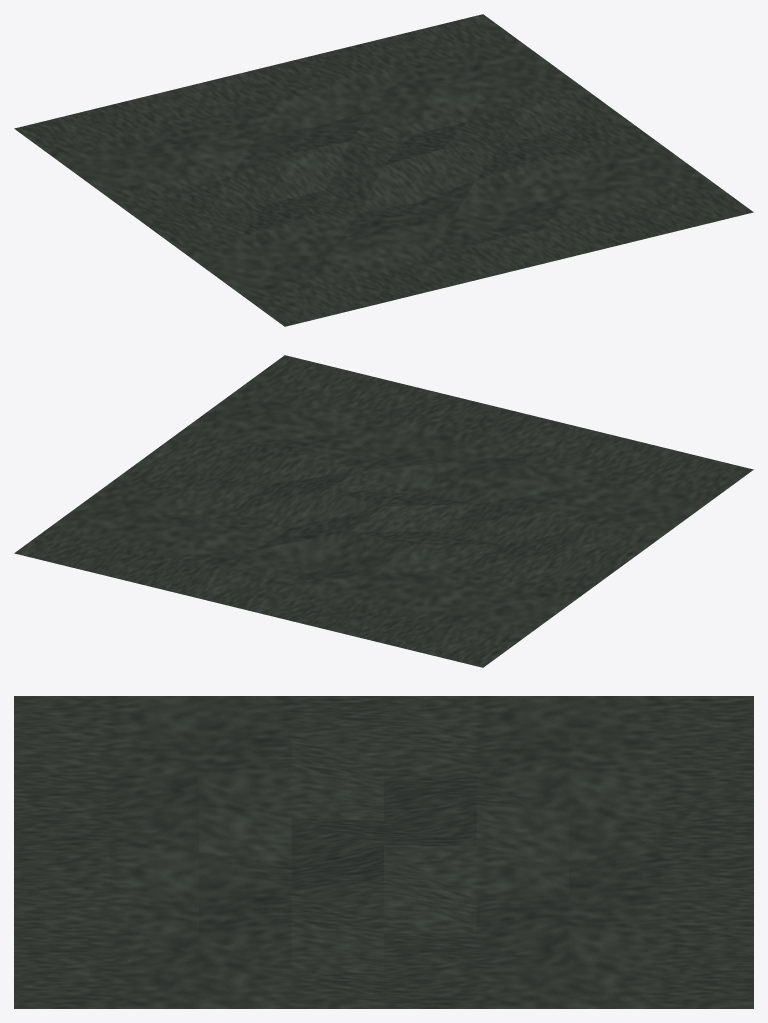
The model's file is Terrain_Rock_2x2.glb.
The picture shows the model from 3 angles, top to bottom: view 1: azimuth 30°, elevation 25°; view 2: azimuth 150°, elevation 25°; view 3: azimuth 270°, elevation 25°; orthographic projection. The views are drawn at different scales.
Parts seen in each view (by area): view 1: Terrain_Rock_2x2; view 2: Terrain_Rock_2x2; view 3: Terrain_Rock_2x2.
Part boxes in pixels (box(x1,y1,x2,y2)): Terrain_Rock_2x2: box(14, 14, 753, 326); Terrain_Rock_2x2: box(14, 355, 753, 667); Terrain_Rock_2x2: box(14, 696, 753, 1008).
Bounding box in the file's own units: 2 × 0.0598 × 2.
1 material, 1 textured.
